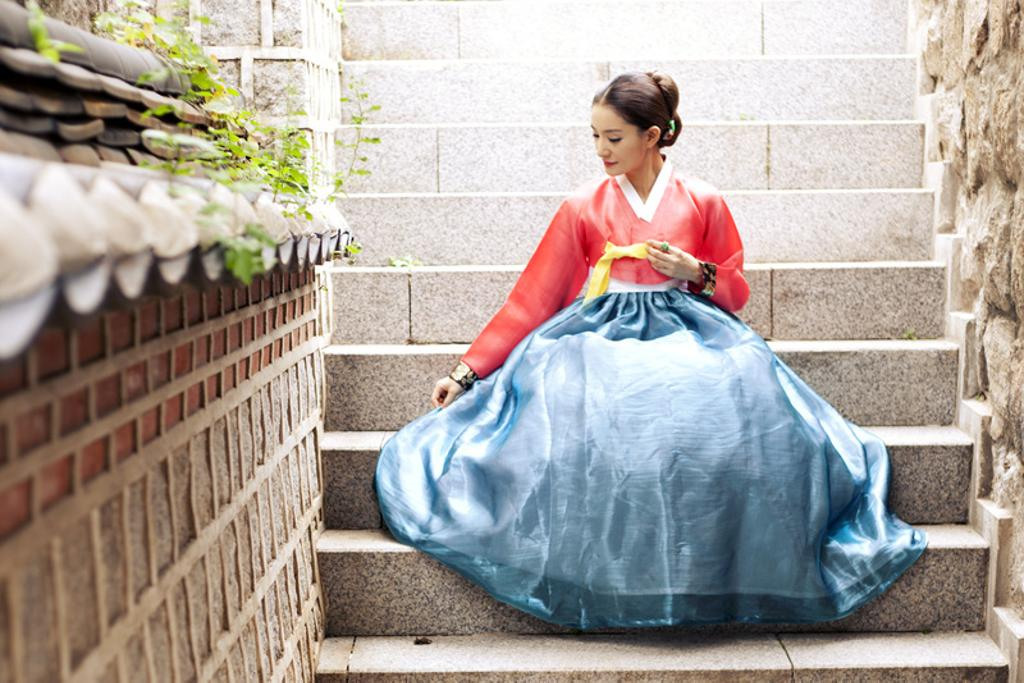face: (590, 103, 644, 176)
